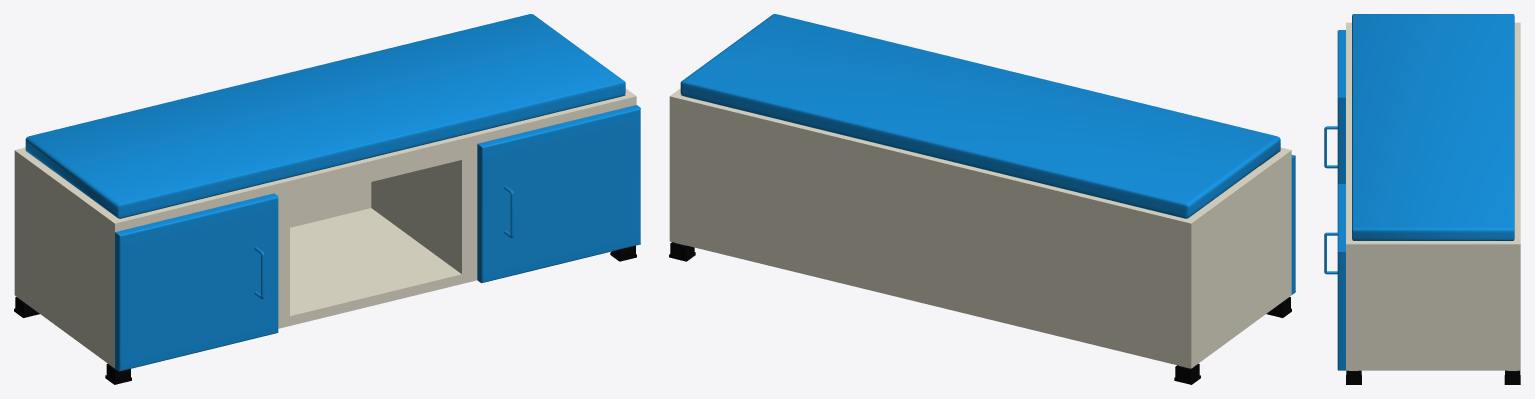
Rendered from Deluxe_double_door_attender_cot.glb.
The picture shows the model from 3 angles, left to right: view 1: azimuth 30°, elevation 25°; view 2: azimuth 150°, elevation 25°; view 3: azimuth 270°, elevation 25°; orthographic projection. The views are drawn at different scales.
Visible parts, largest first — view 1: mattress, cabin, Door; view 2: cabin, mattress, Door; view 3: mattress, cabin, Door.
Part boxes in pixels (x1,y1,x2,y2): mattress: (25, 14, 625, 218); cabin: (14, 88, 636, 384); Door: (115, 105, 640, 371); cabin: (669, 88, 1291, 384); mattress: (680, 14, 1280, 218); Door: (1291, 155, 1295, 294); mattress: (1352, 14, 1514, 240); cabin: (1346, 22, 1520, 384); Door: (1324, 30, 1345, 370).
Size of the model in its own units: 3.66 by 1.18 by 1.37.
